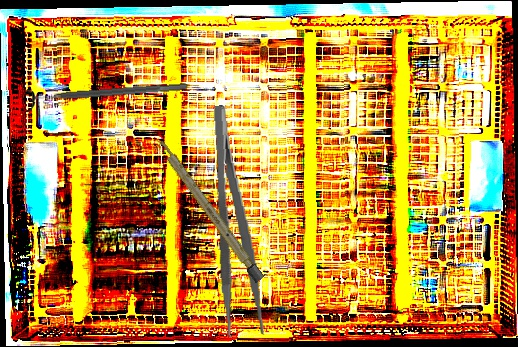Dressing Forceps: (208, 103, 266, 338)
Fixation Ring: (24, 73, 188, 114)
Scalpel Handle: (153, 135, 265, 284)
